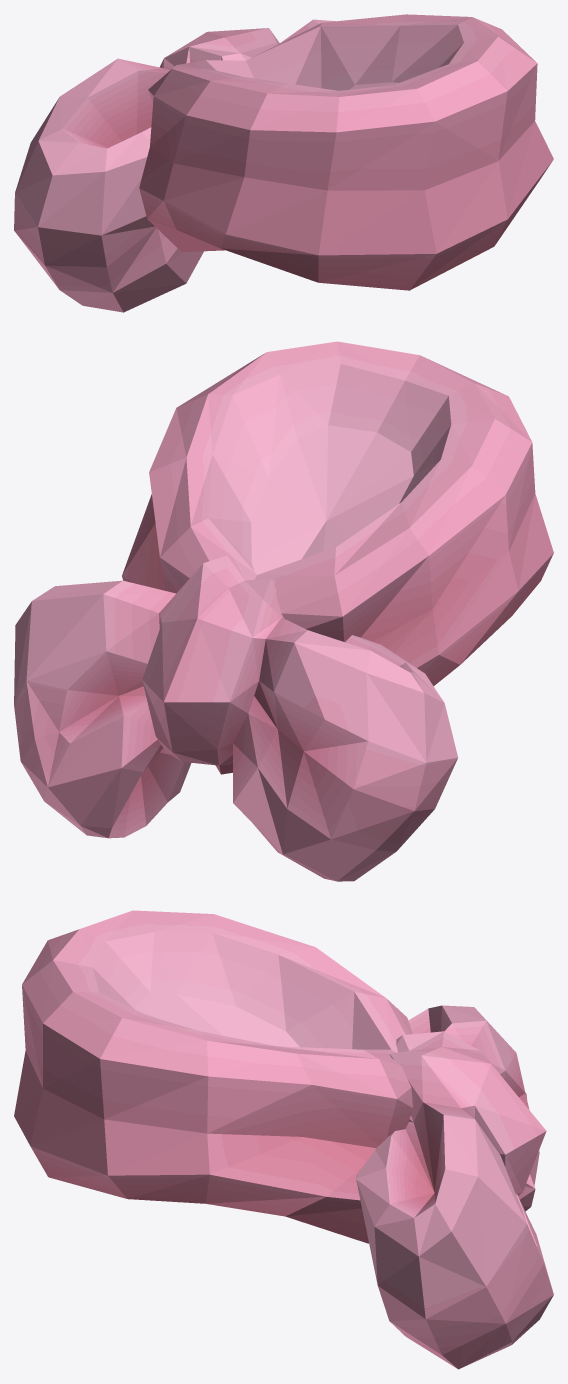
The model's file is CharSkyKid_Neck_AP24OnionRibbon.glb.
3 views of the same model, one above another, from view 1: azimuth 30°, elevation 25°; view 2: azimuth 150°, elevation 25°; view 3: azimuth 270°, elevation 25° (orthographic). The views are drawn at different scales.
Visible parts, largest first — view 1: CharSkyKid_Neck_AP24OnionRibbon; view 2: CharSkyKid_Neck_AP24OnionRibbon; view 3: CharSkyKid_Neck_AP24OnionRibbon.
Boxes of the visible parts, x1,y1,x2,y2 form: CharSkyKid_Neck_AP24OnionRibbon: [14, 14, 553, 312]; CharSkyKid_Neck_AP24OnionRibbon: [14, 341, 553, 881]; CharSkyKid_Neck_AP24OnionRibbon: [14, 910, 553, 1369].
Bounding box in the file's own units: 2.47 × 1.99 × 2.76.
Materials: 1 (1 with a texture image).
